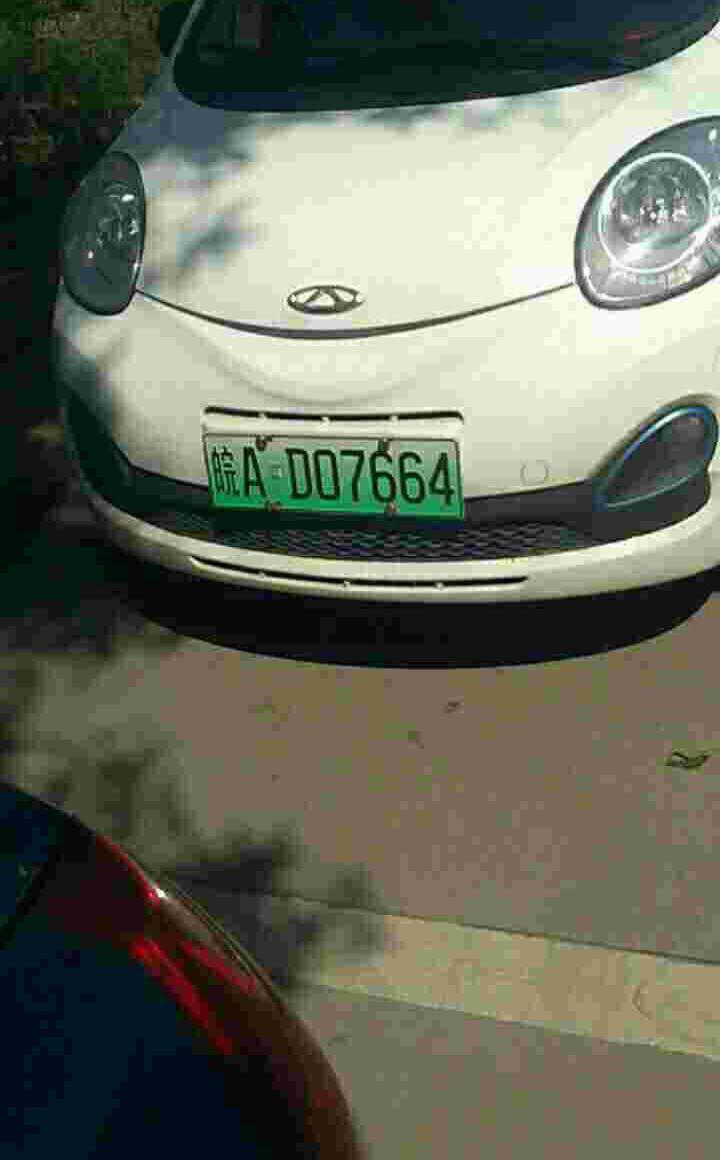car_id: (200, 433, 461, 516)
